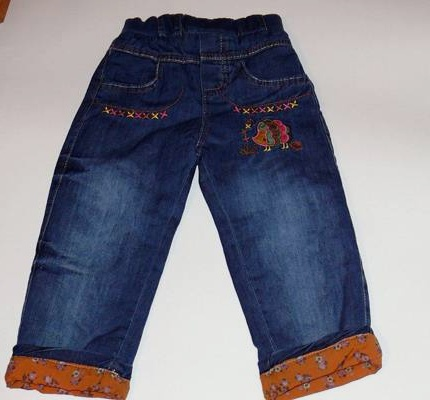Pants: (15, 15, 372, 400)
